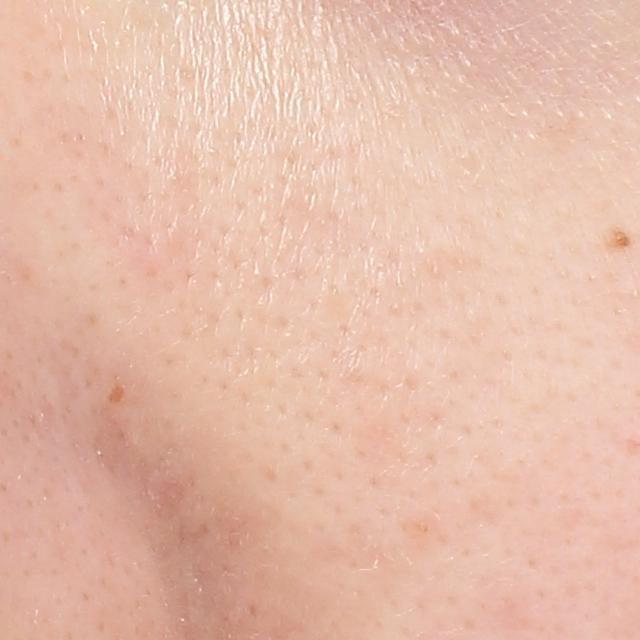nevus: (613, 224, 633, 250)
